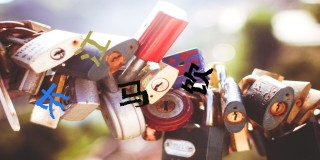江: (74, 31, 111, 66)
长: (36, 81, 69, 121)
饮: (181, 62, 214, 95)
马: (114, 78, 150, 108)
